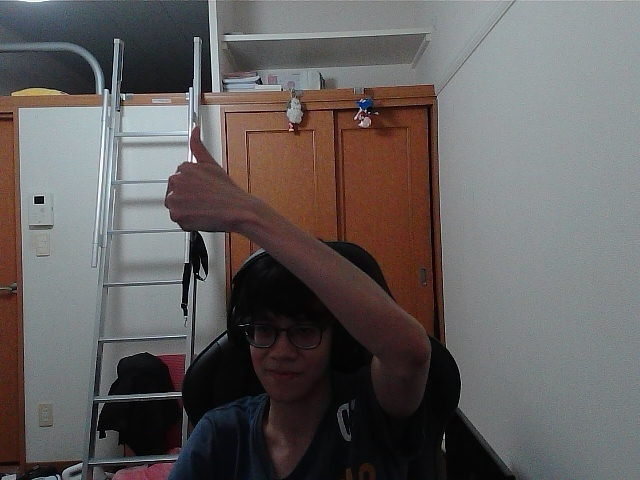thumb_up: (172, 129, 235, 222)
